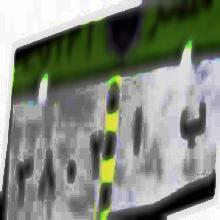0: (64, 152, 78, 189)
2: (87, 126, 103, 181)
3: (12, 154, 33, 205)
8: (36, 155, 56, 196)
alif: (132, 105, 144, 164)
baa: (178, 92, 206, 151)
